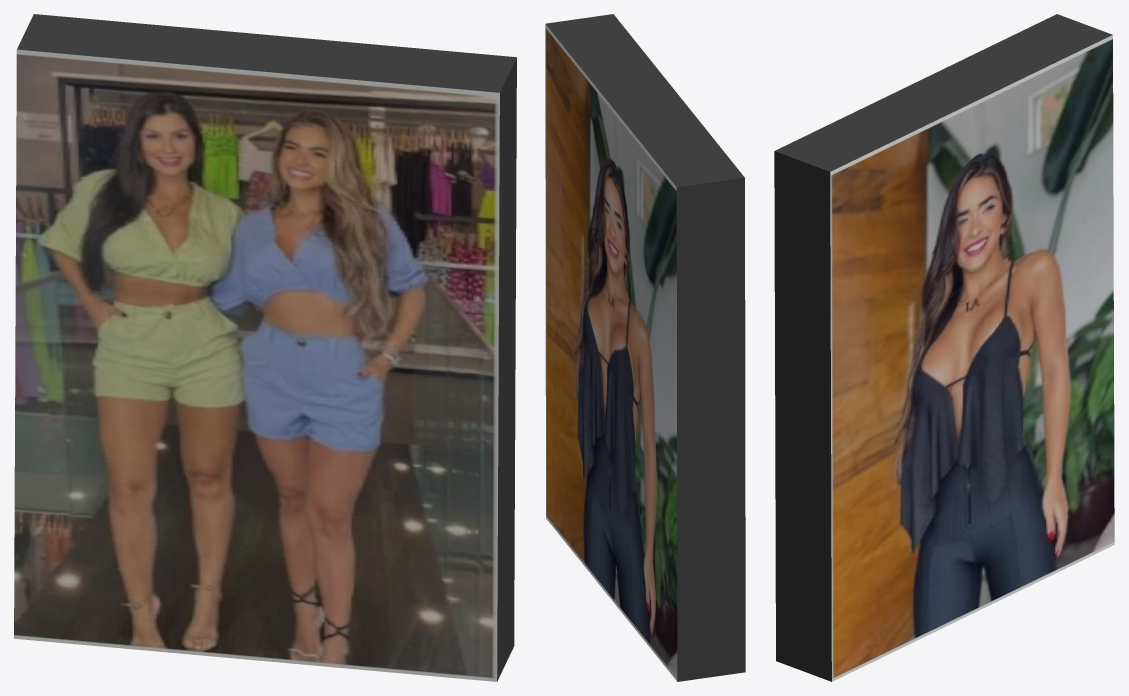
The picture shows the model from 3 angles, left to right: view 1: azimuth 30°, elevation 25°; view 2: azimuth 150°, elevation 25°; view 3: azimuth 270°, elevation 25°; orthographic projection. The views are drawn at different scales.
Parts seen in each view (by area): view 1: Object003_StaticMeshComponent0; view 2: Object003_StaticMeshComponent0; view 3: Object003_StaticMeshComponent0.
Part boxes in pixels (bbox=[...]): Object003_StaticMeshComponent0: bbox=[14, 14, 516, 681]; Object003_StaticMeshComponent0: bbox=[545, 14, 745, 681]; Object003_StaticMeshComponent0: bbox=[774, 14, 1114, 681].
Size of the model in its own units: 1.65 by 2.51 by 1.51.
2 materials, 1 textured.
